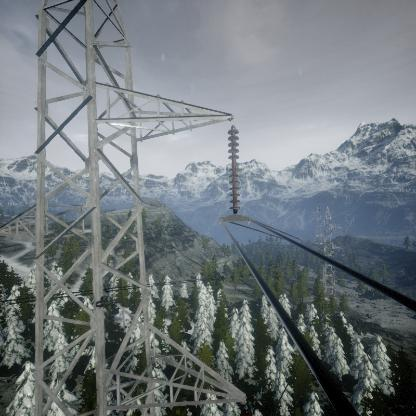insulator: (225, 125, 243, 214)
tower: (313, 204, 346, 307)
